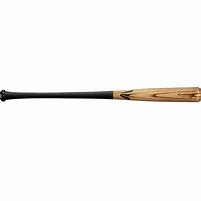bat: (1, 86, 201, 103)
